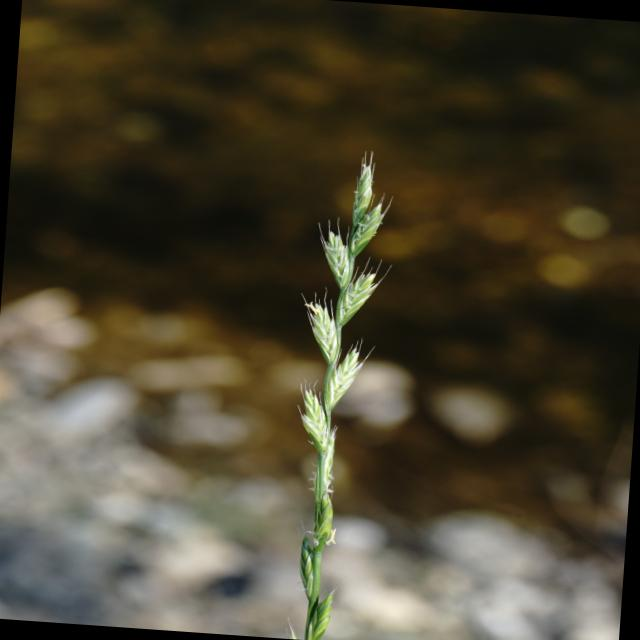Lolium: (274, 145, 402, 640)
